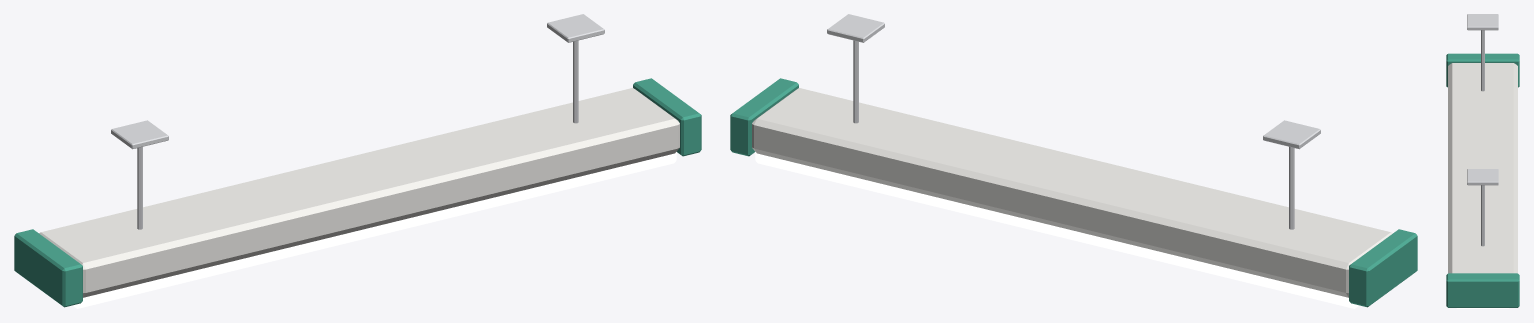
File: petrol-station-and-forecourt-shop-ceiling-light-bar-61d6a7f3__33977.glb
3 renders of one model, left to right at view 1: azimuth 30°, elevation 25°; view 2: azimuth 150°, elevation 25°; view 3: azimuth 270°, elevation 25°, orthographic. The views are drawn at different scales.
Parts seen in each view (by area): view 1: ceiling-light-bar; view 2: ceiling-light-bar; view 3: ceiling-light-bar.
Part boxes in pixels (box(x1,y1,x2,y2)): ceiling-light-bar: box(14, 14, 701, 308); ceiling-light-bar: box(730, 14, 1417, 308); ceiling-light-bar: box(1446, 14, 1519, 308).
Size of the model in its own units: 1.54 by 0.3319 by 0.21.
